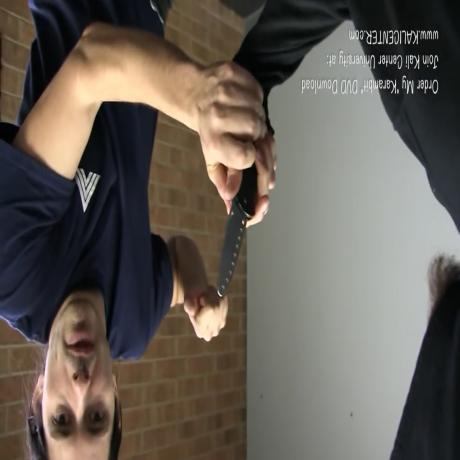1: (0, 0, 248, 457)
weapon: (218, 175, 252, 300)
